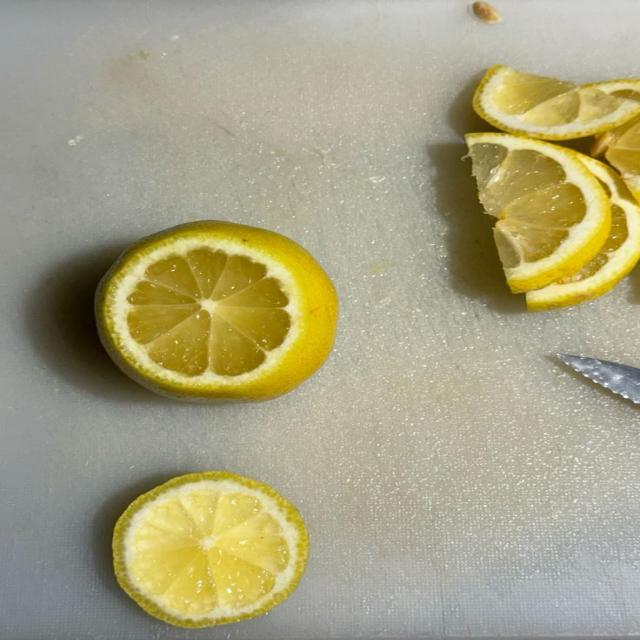lemon: (96, 222, 337, 400), (114, 472, 308, 626), (466, 134, 610, 292), (527, 156, 639, 310), (473, 65, 639, 140), (592, 115, 639, 200)
